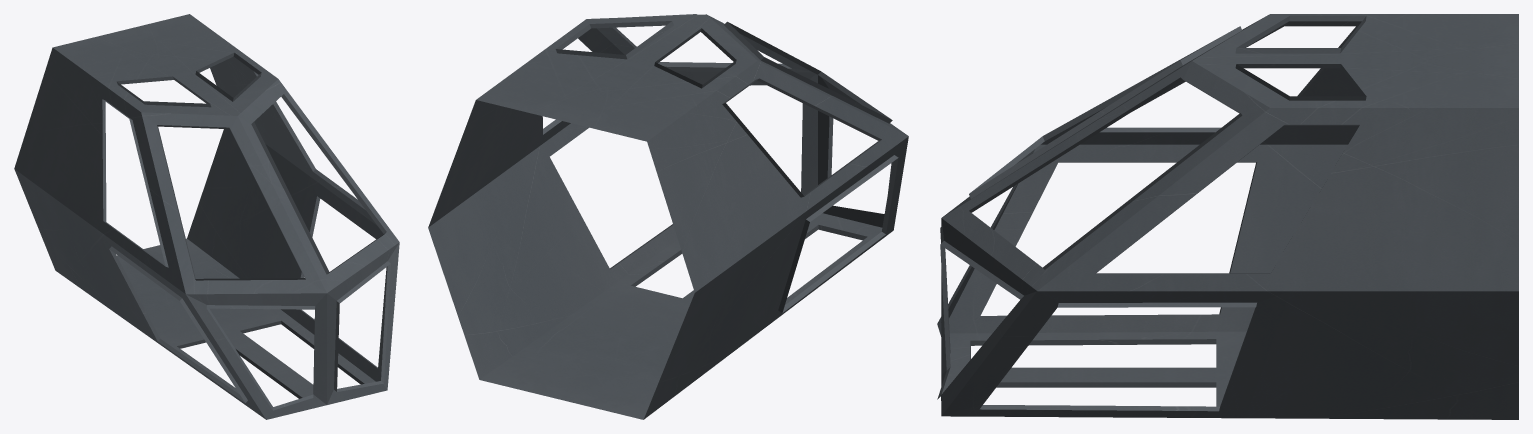
The model's file is spaceship_interior.obj.
3 views of the same model, side by side, from view 1: azimuth 30°, elevation 25°; view 2: azimuth 150°, elevation 25°; view 3: azimuth 270°, elevation 25° (orthographic). The views are drawn at different scales.
Parts seen in each view (by area): view 1: Cube; view 2: Cube; view 3: Cube.
Boxes of the visible parts, x1,y1,x2,y2 form: Cube: (14,14,399,419); Cube: (428,14,908,419); Cube: (937,14,1518,419).
Bounding box in the file's own units: 3 × 3.1 × 5.04.
1 material, 1 textured.
